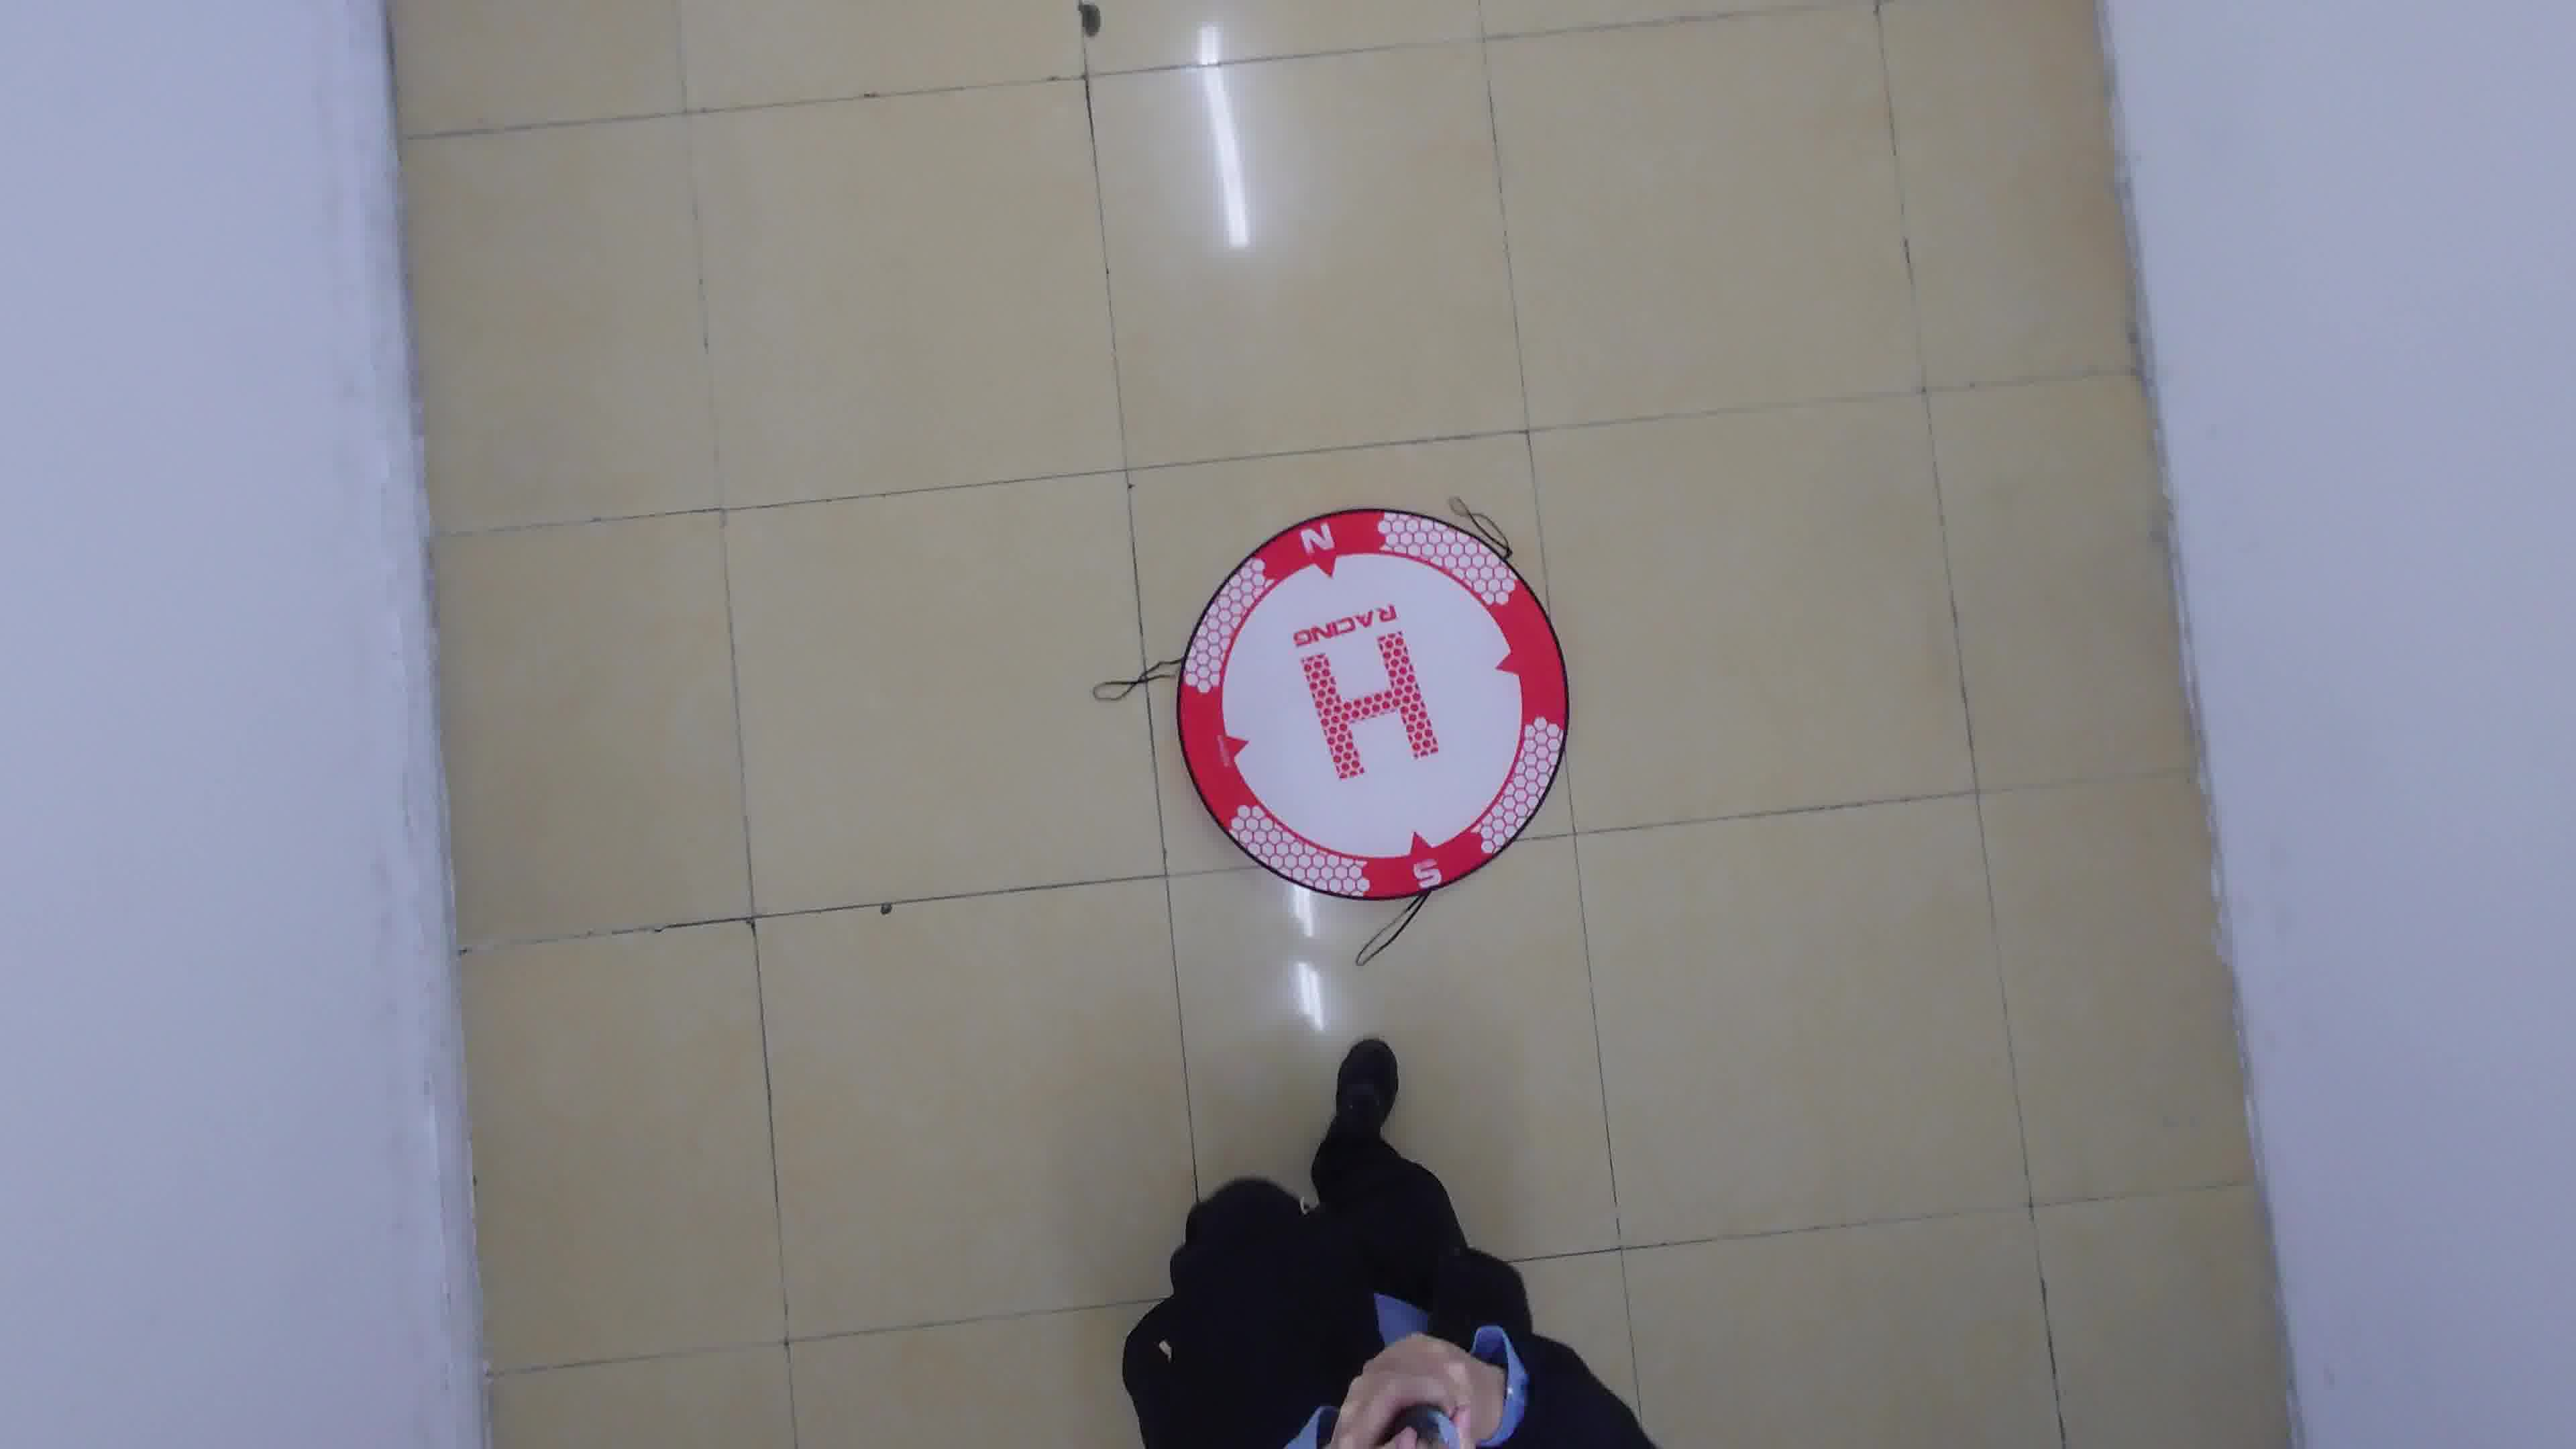H: (1299, 630, 1442, 780)
